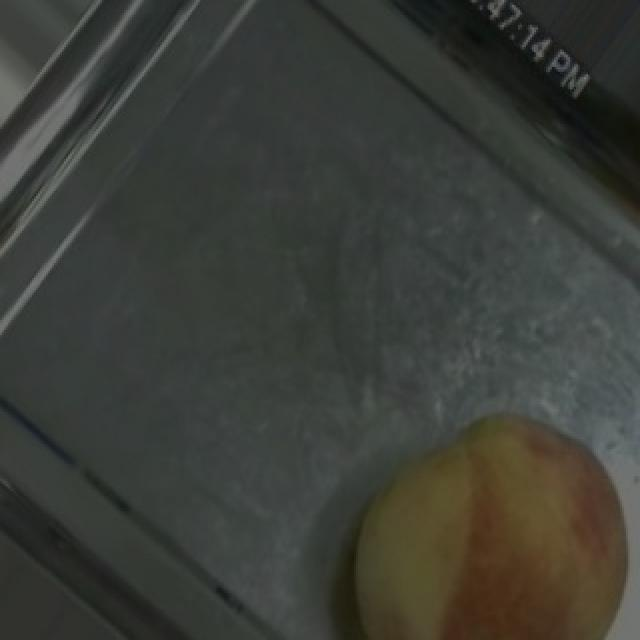Fruit: (318, 392, 640, 640)
